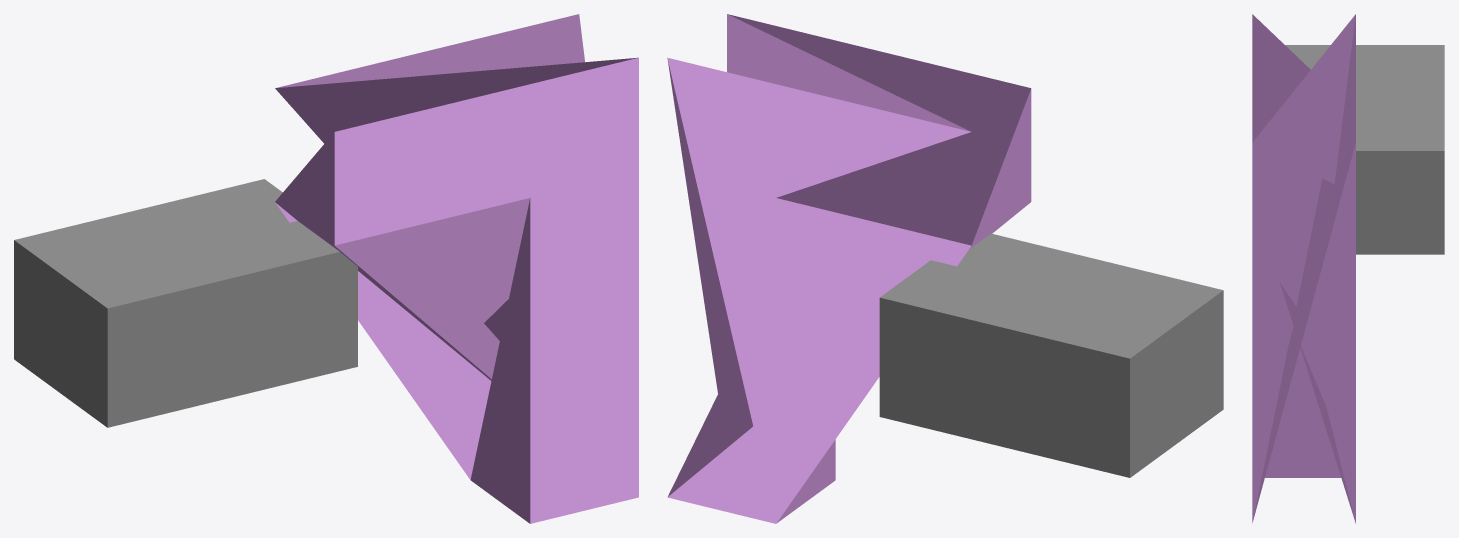
File: teste.obj
3 views of the same model, side by side, from view 1: azimuth 30°, elevation 25°; view 2: azimuth 150°, elevation 25°; view 3: azimuth 270°, elevation 25° (orthographic). The views are drawn at different scales.
Parts seen in each view (by area): view 1: part_01, part_00; view 2: part_01, part_00; view 3: part_01, part_00.
Part boxes in pixels (x1=…): part_01: x1=275, y1=14, x2=638, y2=523; part_00: x1=14, y1=179, x2=357, y2=427; part_01: x1=667, y1=14, x2=1031, y2=523; part_00: x1=879, y1=233, x2=1223, y2=477; part_01: x1=1252, y1=14, x2=1355, y2=523; part_00: x1=1285, y1=45, x2=1444, y2=254.
Size of the model in its own units: 19.75 by 16.15 by 7.38.
